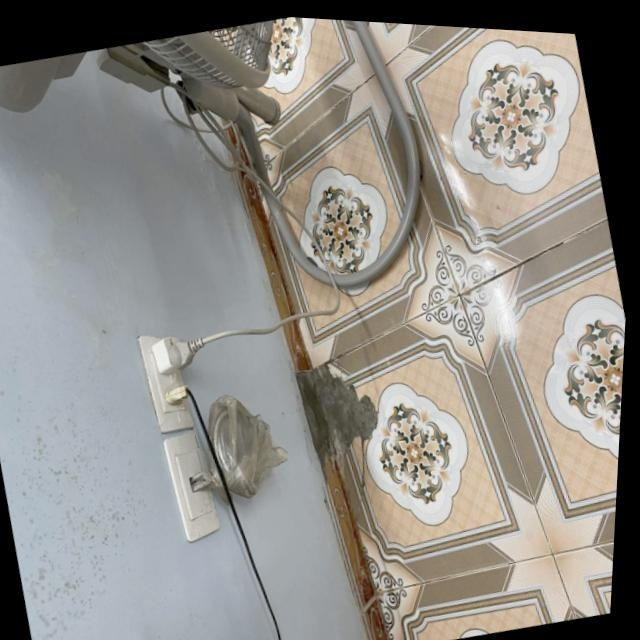outlet: (156, 426, 227, 546), (132, 326, 201, 437)
